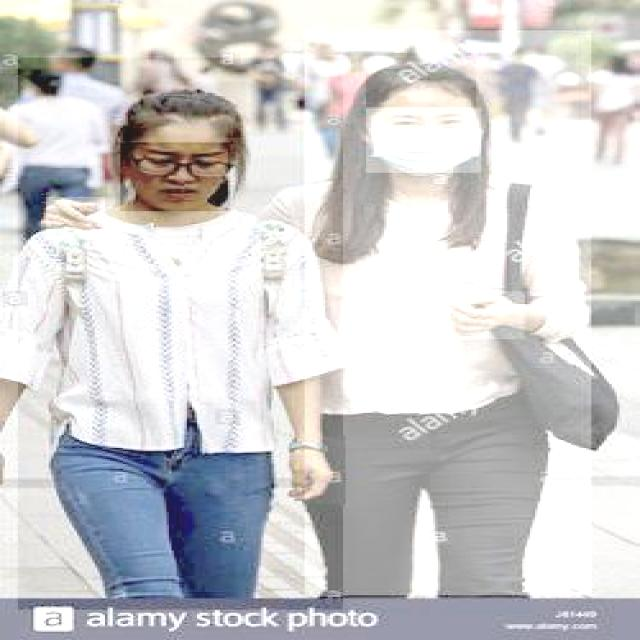face_mask: (366, 108, 484, 174)
face_nomask: (120, 142, 230, 212)
glasses: (127, 148, 234, 183)
hand_noglove: (433, 291, 527, 341), (287, 436, 348, 506), (46, 197, 105, 240)
head_nohelmet: (102, 82, 248, 139), (366, 53, 479, 109)
person: (18, 58, 346, 611), (305, 30, 594, 597)
